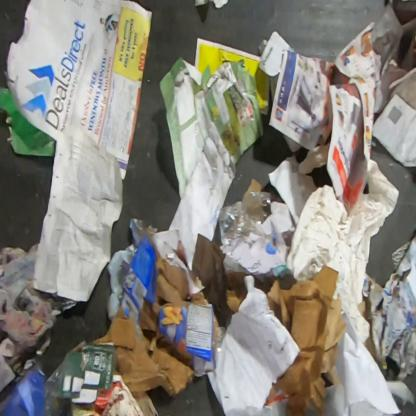cardboard: (86, 217, 221, 399), (262, 264, 348, 415), (357, 293, 378, 363), (242, 178, 264, 200)
soft_plastic: (218, 190, 272, 250), (213, 326, 227, 368)
